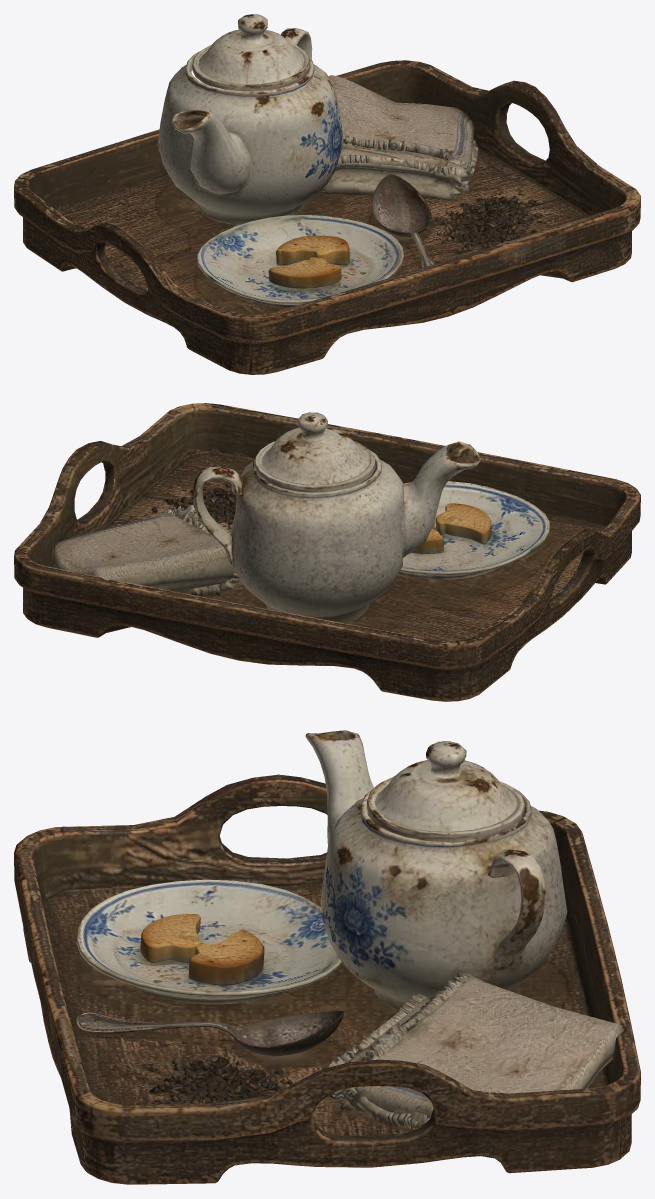
File: tea_service.glb
3 renders of one model, top to bottom at view 1: azimuth 30°, elevation 25°; view 2: azimuth 150°, elevation 25°; view 3: azimuth 270°, elevation 25°, orthographic. The views are drawn at different scales.
Parts seen in each view (by area): view 1: f7be502c_ecbb_4715_94ec_821b3139f348; view 2: f7be502c_ecbb_4715_94ec_821b3139f348; view 3: f7be502c_ecbb_4715_94ec_821b3139f348.
Part boxes in pixels (bbox=[...]): f7be502c_ecbb_4715_94ec_821b3139f348: bbox=[14, 14, 640, 374]; f7be502c_ecbb_4715_94ec_821b3139f348: bbox=[14, 403, 640, 701]; f7be502c_ecbb_4715_94ec_821b3139f348: bbox=[14, 730, 640, 1184].
Size of the model in its own units: 0.9995 by 0.4233 by 0.8746.
Materials: 1 (1 with a texture image).
